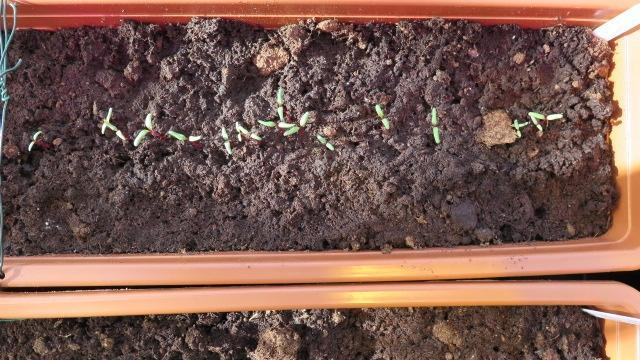crop: (128, 109, 156, 149), (213, 123, 235, 157), (425, 104, 443, 145), (309, 129, 339, 153), (370, 101, 393, 130), (162, 126, 205, 141), (23, 128, 43, 151)
